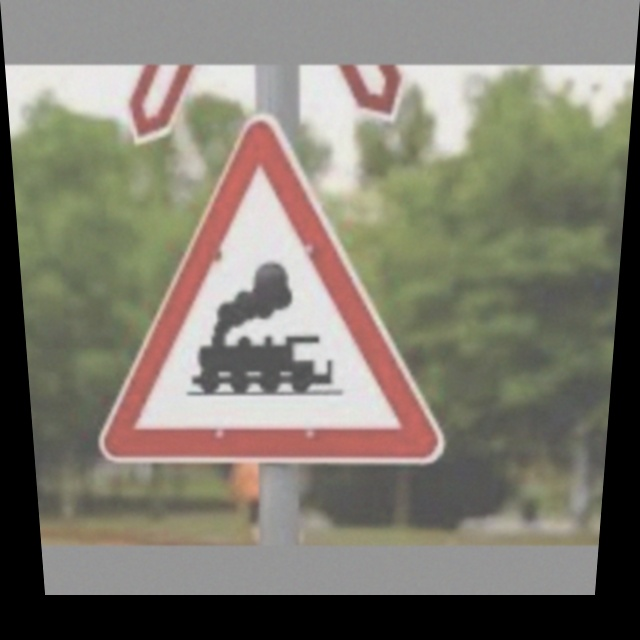Unguarded_Level_Crossing: (67, 130, 476, 469)
